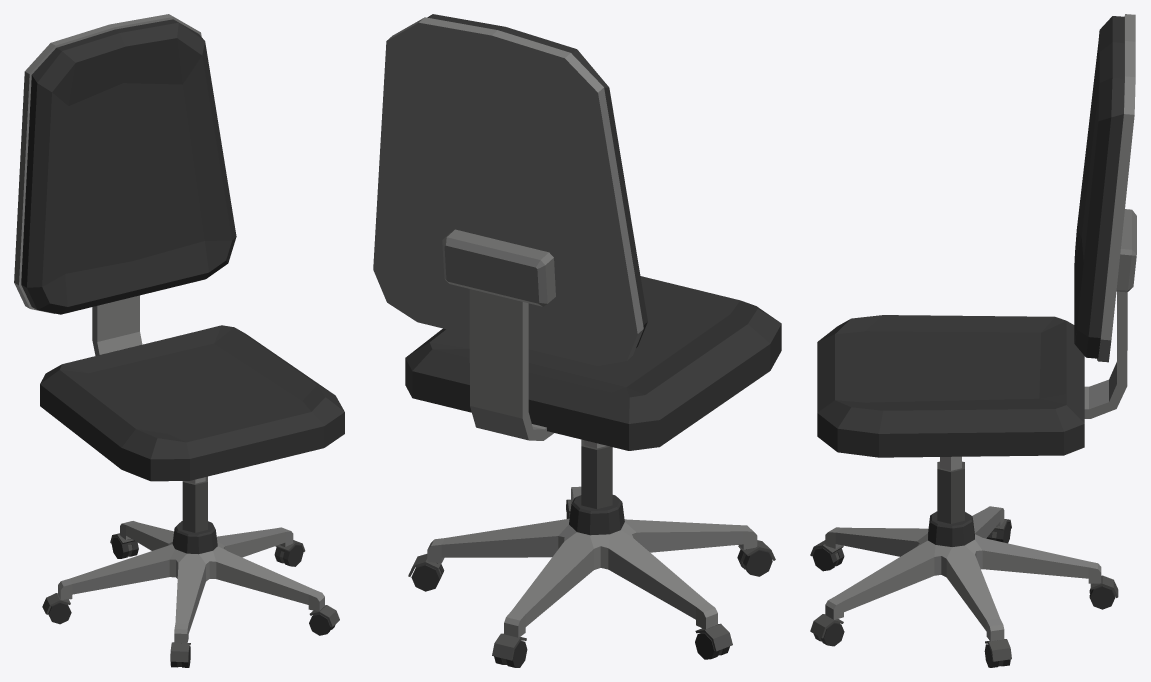
Rendered from SM_Props_Interior_Generic_Office_Chair_03.fbx.
3 renders of one model, left to right at view 1: azimuth 30°, elevation 25°; view 2: azimuth 150°, elevation 25°; view 3: azimuth 270°, elevation 25°, orthographic. The views are drawn at different scales.
Visible parts, largest first — view 1: SM_Props_Interior_Generic_Office_Chair_03_Seat, SM_Props_Interior_Generic_Office_Chair_03; view 2: SM_Props_Interior_Generic_Office_Chair_03_Seat, SM_Props_Interior_Generic_Office_Chair_03; view 3: SM_Props_Interior_Generic_Office_Chair_03_Seat, SM_Props_Interior_Generic_Office_Chair_03.
Boxes of the visible parts, x1,y1,x2,y2 form: SM_Props_Interior_Generic_Office_Chair_03_Seat: (14, 14, 344, 481); SM_Props_Interior_Generic_Office_Chair_03: (42, 476, 339, 667); SM_Props_Interior_Generic_Office_Chair_03_Seat: (373, 14, 781, 450); SM_Props_Interior_Generic_Office_Chair_03: (408, 439, 775, 667); SM_Props_Interior_Generic_Office_Chair_03_Seat: (817, 14, 1136, 457); SM_Props_Interior_Generic_Office_Chair_03: (810, 456, 1118, 667).
Size of the model in its own units: 60.56 by 116 by 61.1.
